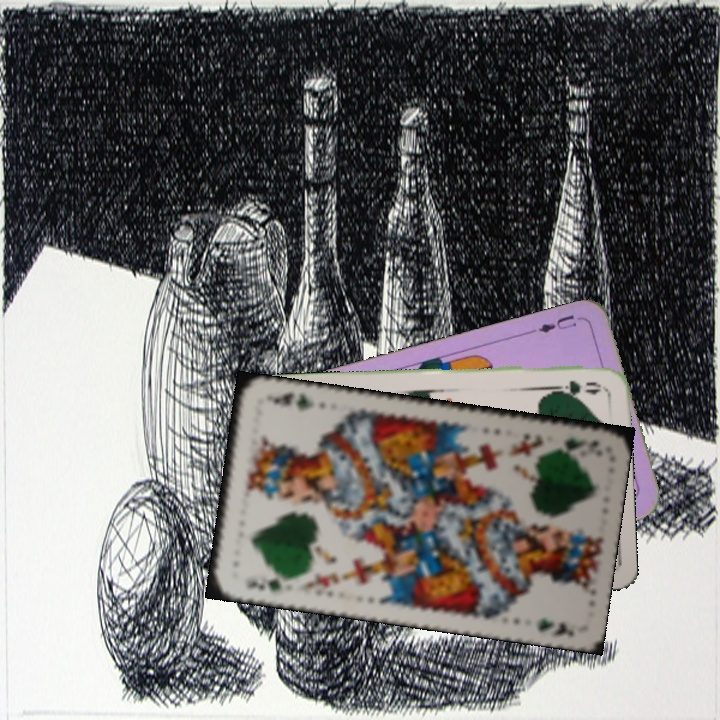EU: (534, 310, 580, 336)
GK: (548, 433, 605, 458), (242, 571, 293, 594)
GO: (544, 376, 604, 397)
